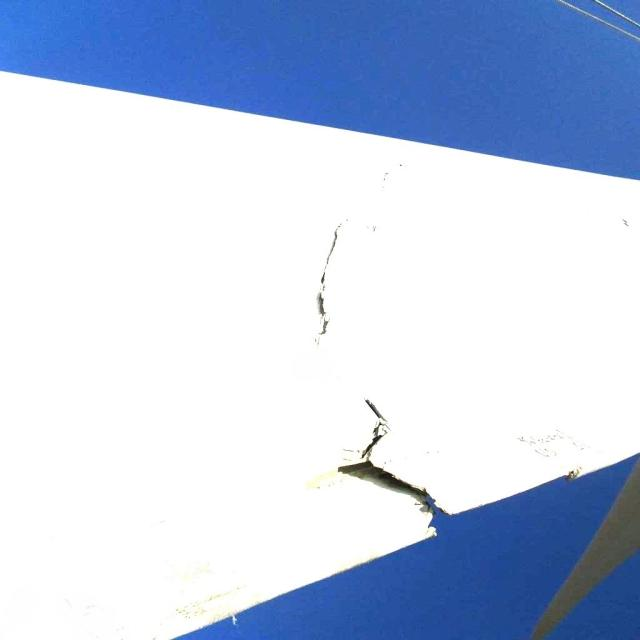crack: (338, 400, 449, 540), (310, 224, 340, 344)
